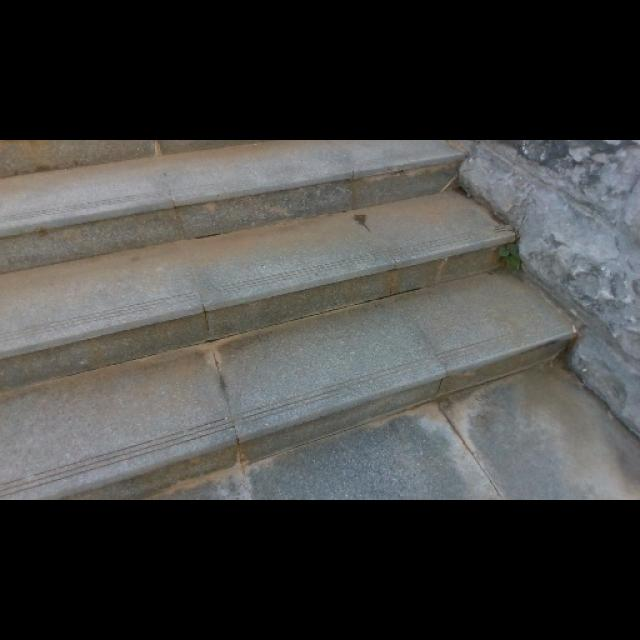Stairs: (0, 138, 638, 500)
